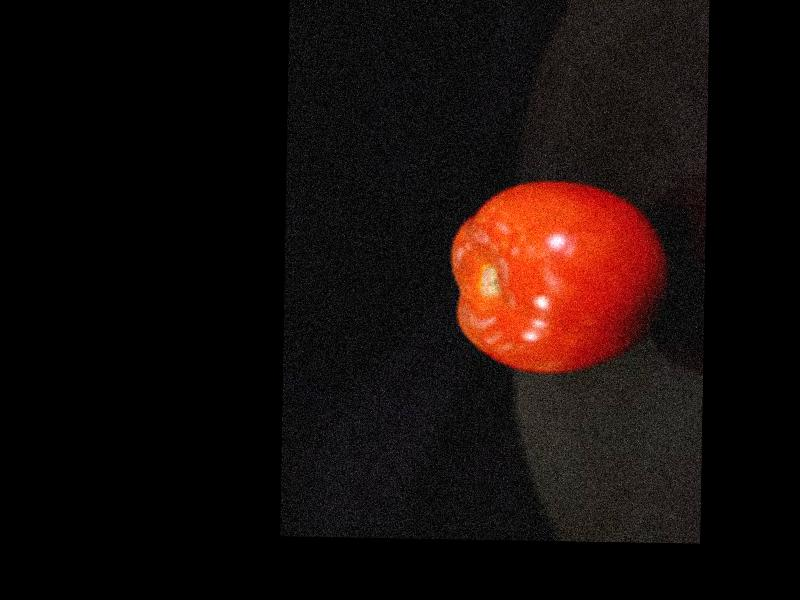Tomato: (445, 176, 669, 376)
